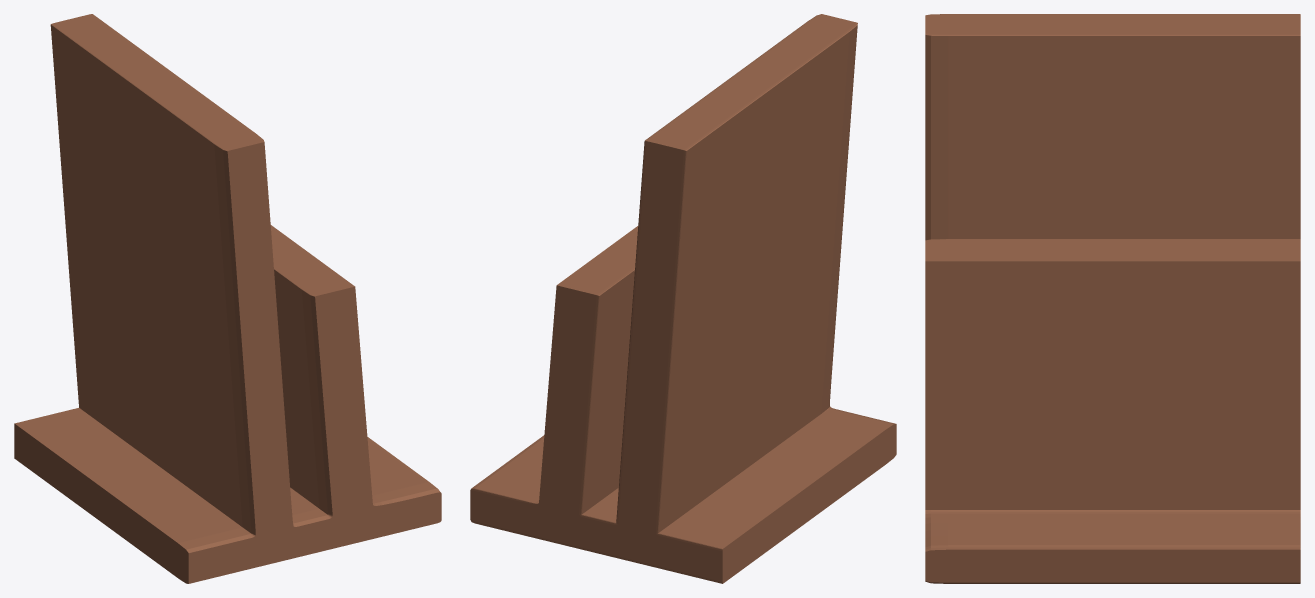
Rendered from Menuholder.fbx.
3 views of the same model, side by side, from view 1: azimuth 30°, elevation 25°; view 2: azimuth 150°, elevation 25°; view 3: azimuth 270°, elevation 25° (orthographic). The views are drawn at different scales.
Parts seen in each view (by area): view 1: Cube; view 2: Cube; view 3: Cube.
Boxes of the visible parts, x1=… form: Cube: x1=14, y1=14, x2=441, y2=583; Cube: x1=470, y1=14, x2=896, y2=583; Cube: x1=925, y1=14, x2=1300, y2=583.
Size of the model in its own units: 280 by 451 by 335.
